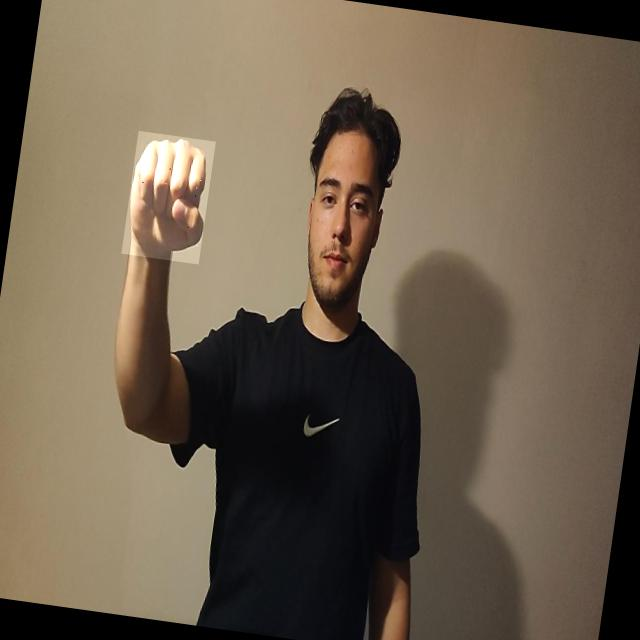yes: (122, 130, 216, 264)
